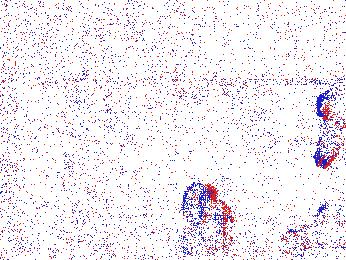flame jellyfish: (283, 203, 346, 249), (313, 83, 346, 166), (180, 182, 234, 230)
